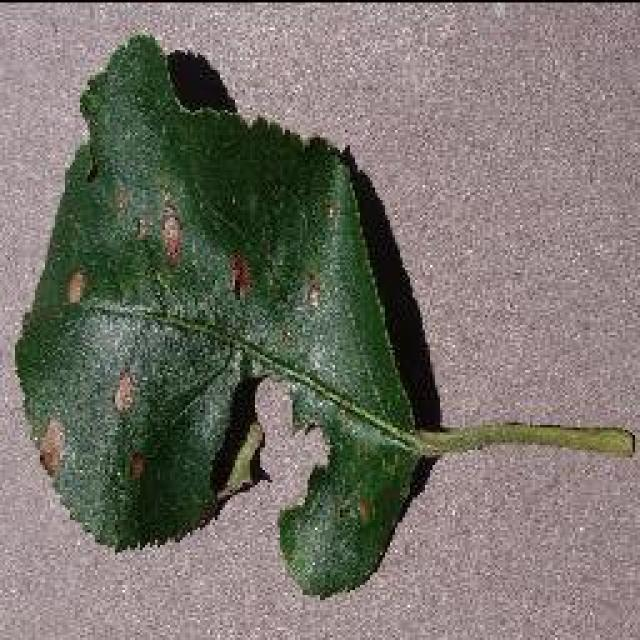Apple___Black_rot: (10, 30, 442, 602)
